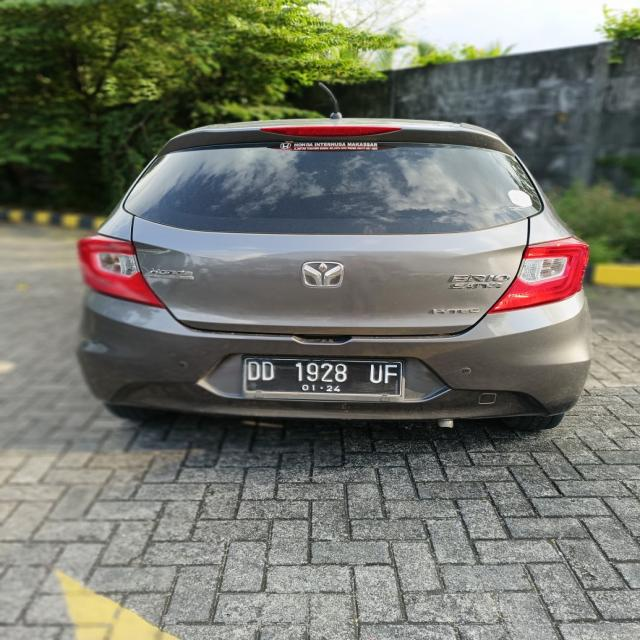plates: (236, 354, 410, 405)
